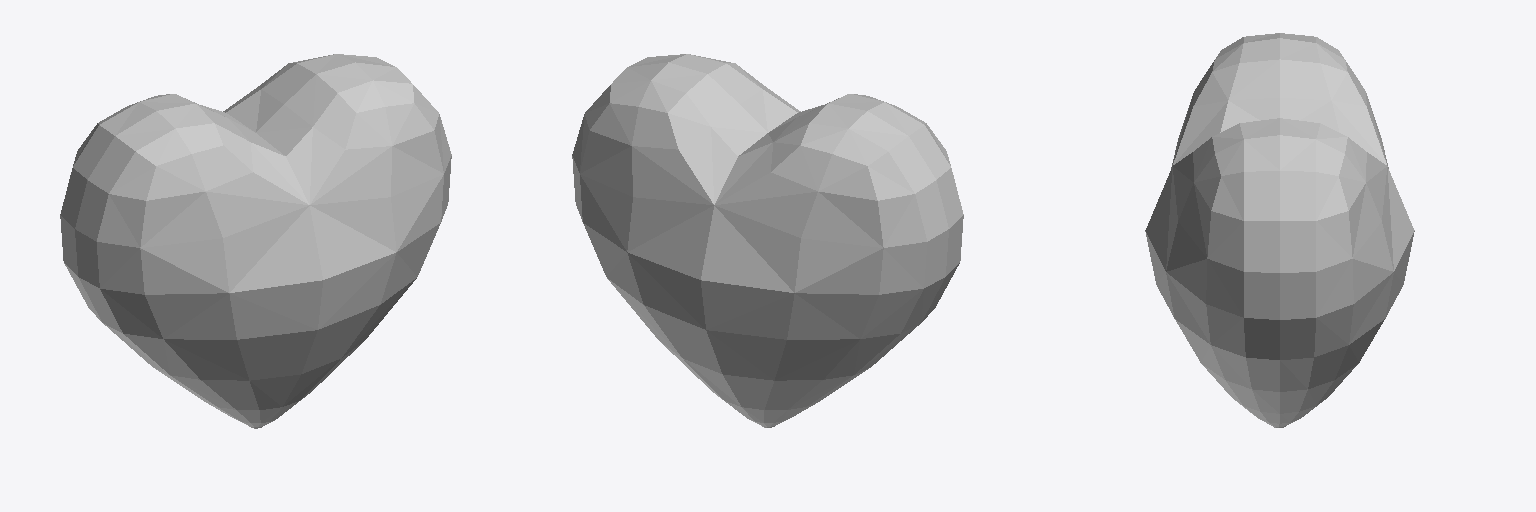
Rendered from heart.obj.
The picture shows the model from 3 angles: view 1: azimuth 30°, elevation 25°; view 2: azimuth 150°, elevation 25°; view 3: azimuth 270°, elevation 25°; orthographic projection.
Visible parts, largest first — view 1: 000_Balloon_-_baked; view 2: 000_Balloon_-_baked; view 3: 000_Balloon_-_baked.
Boxes of the visible parts, <box> form: 000_Balloon_-_baked: <box>60,54,451,428</box>; 000_Balloon_-_baked: <box>572,54,963,427</box>; 000_Balloon_-_baked: <box>1145,33,1414,427</box>.
Size of the model in its own units: 139 by 124 by 89.3.